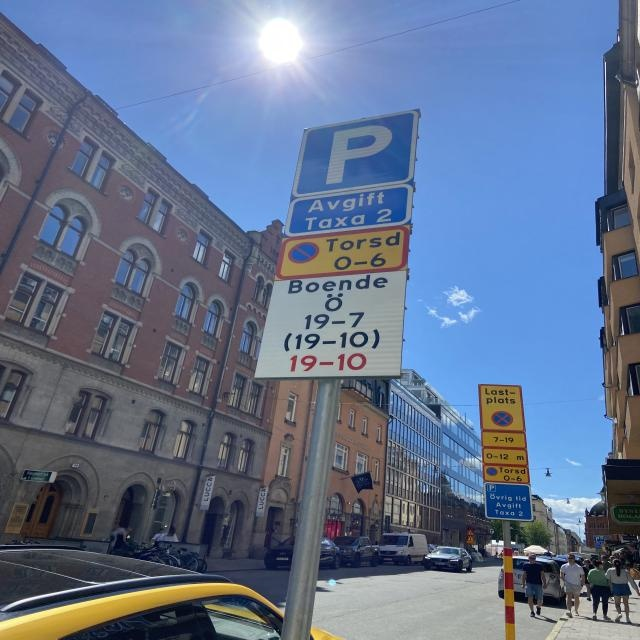P-skylt: (288, 108, 422, 202)
lastplats: (477, 382, 528, 434)
